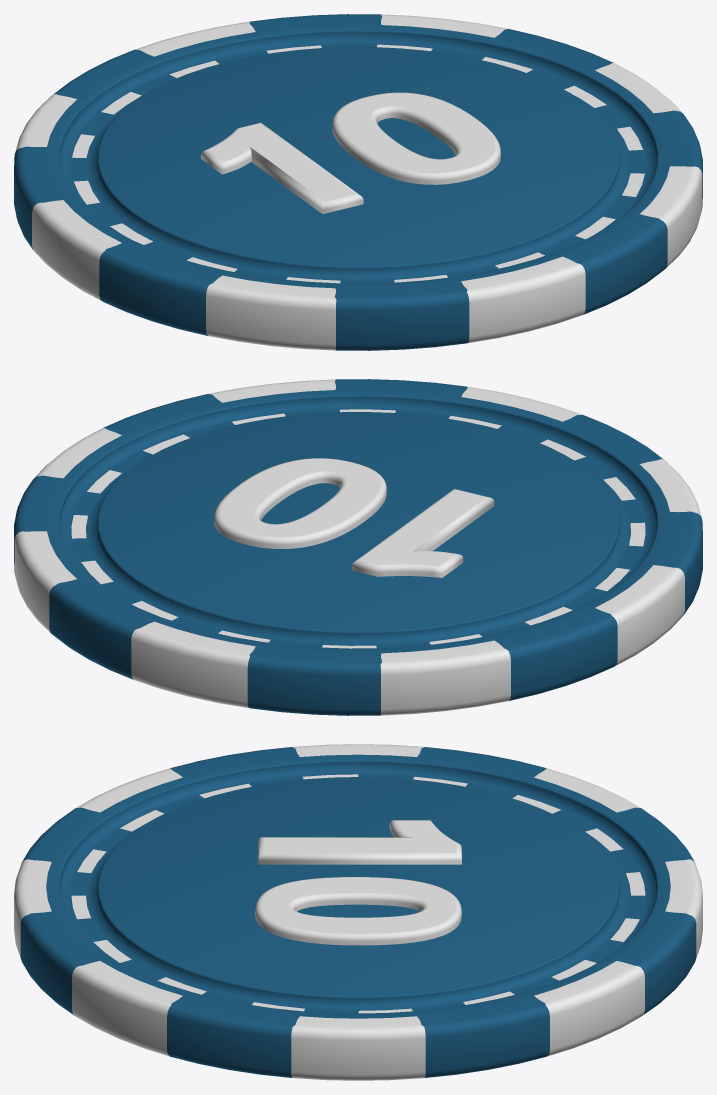
The model's file is chip_10.glb.
3 renders of one model, top to bottom at view 1: azimuth 30°, elevation 25°; view 2: azimuth 150°, elevation 25°; view 3: azimuth 270°, elevation 25°, orthographic.
Parts seen in each view (by area): view 1: 10; view 2: 10; view 3: 10.
Part boxes in pixels (box(x1,y1,x2,y2)): 10: box(14, 14, 702, 350); 10: box(14, 379, 702, 715); 10: box(14, 744, 702, 1080).
Size of the model in its own units: 0.0802 by 0.0091 by 0.0802.
